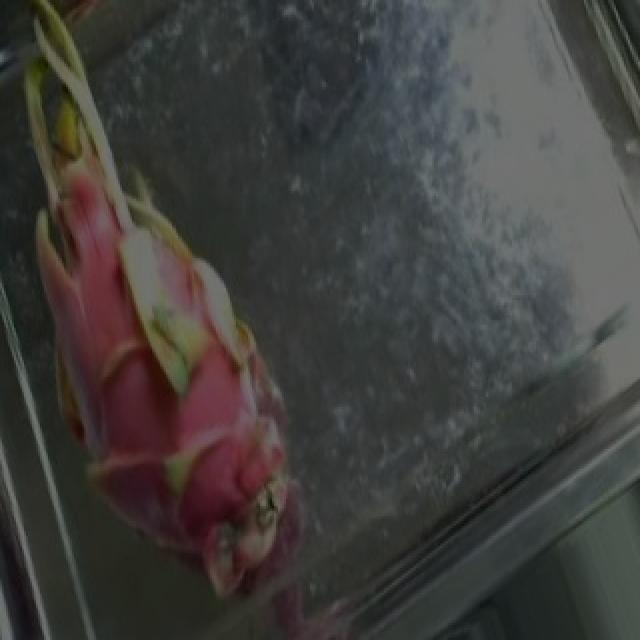fruit: (0, 32, 330, 496)
